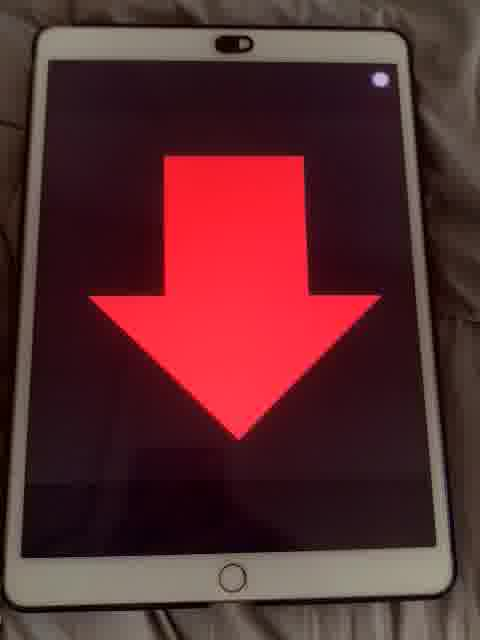down: (76, 149, 386, 448)
